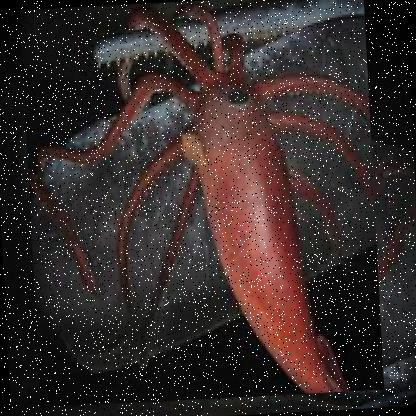colossal_squid: (18, 0, 384, 409)
